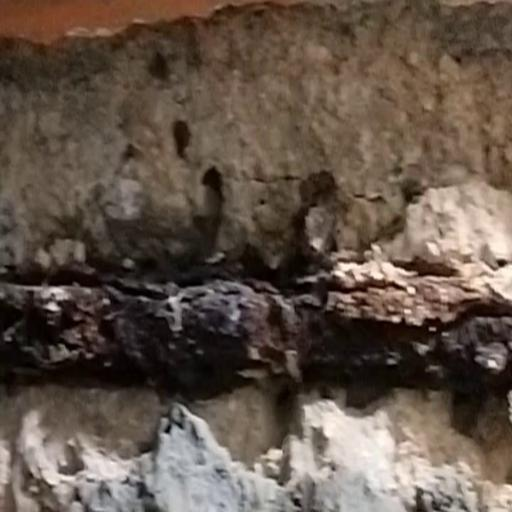spalling: (0, 11, 512, 483)
